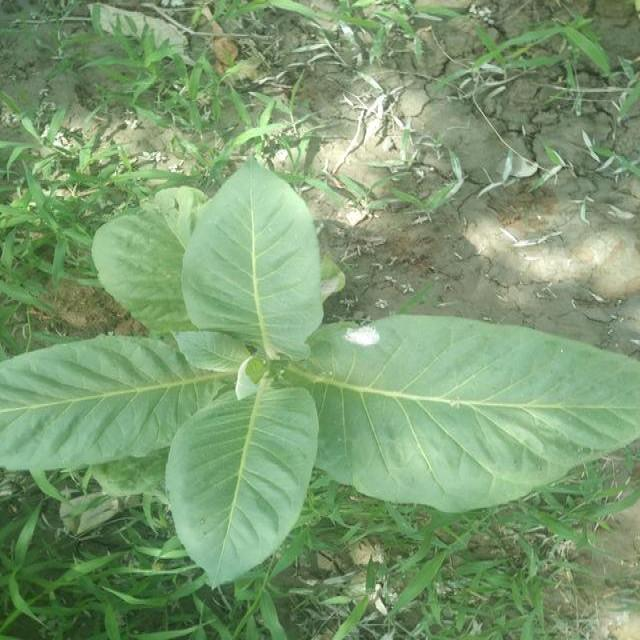crop: (0, 162, 640, 573)
